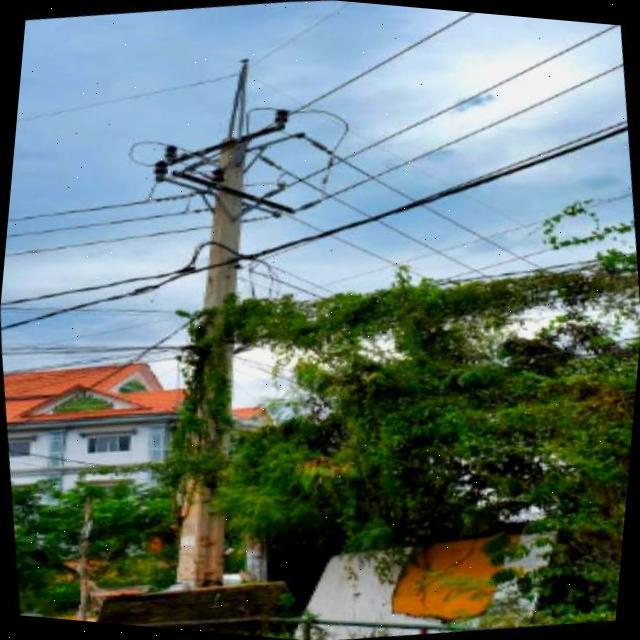critical vegetation: (142, 262, 292, 527)
